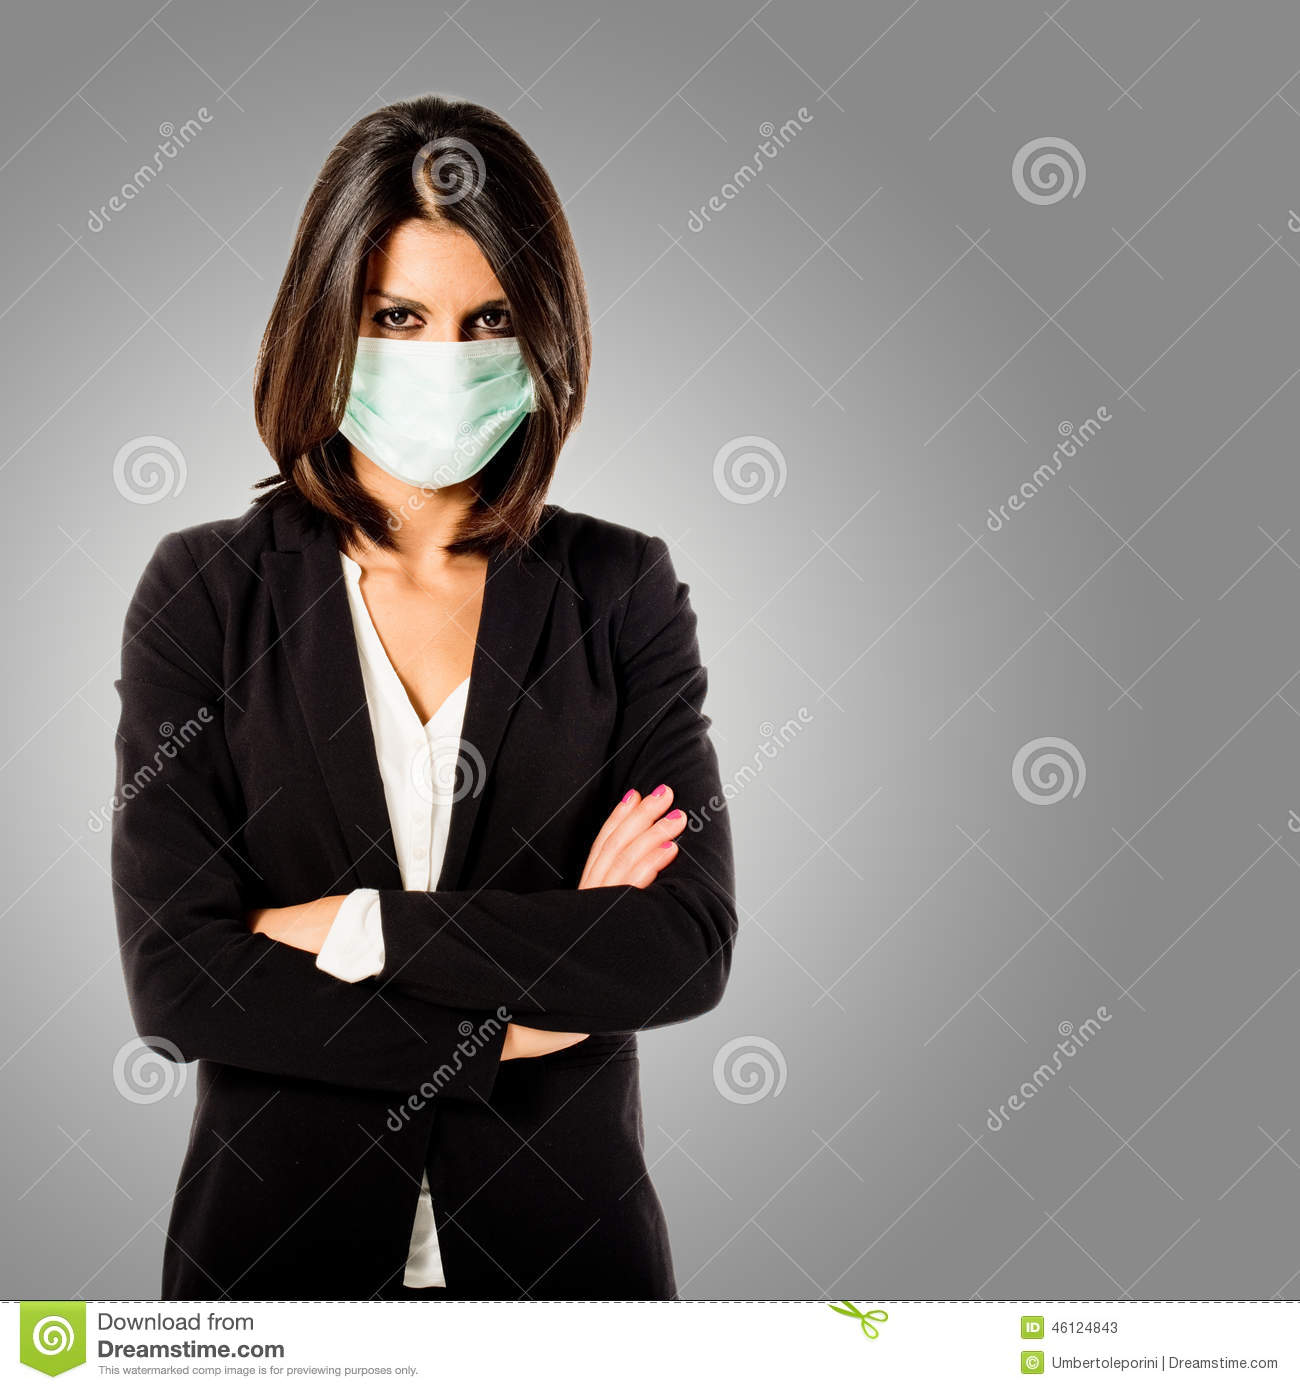mask: (335, 329, 564, 493)
